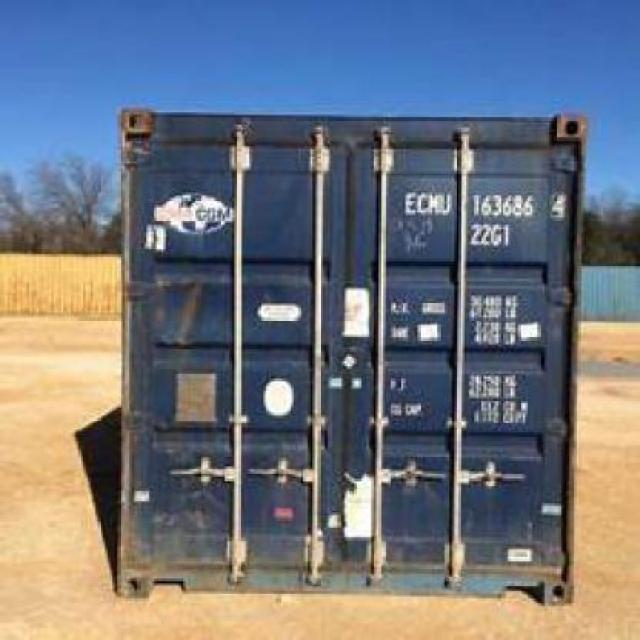ISO: (471, 224, 516, 248)
container_number: (402, 192, 566, 216)
